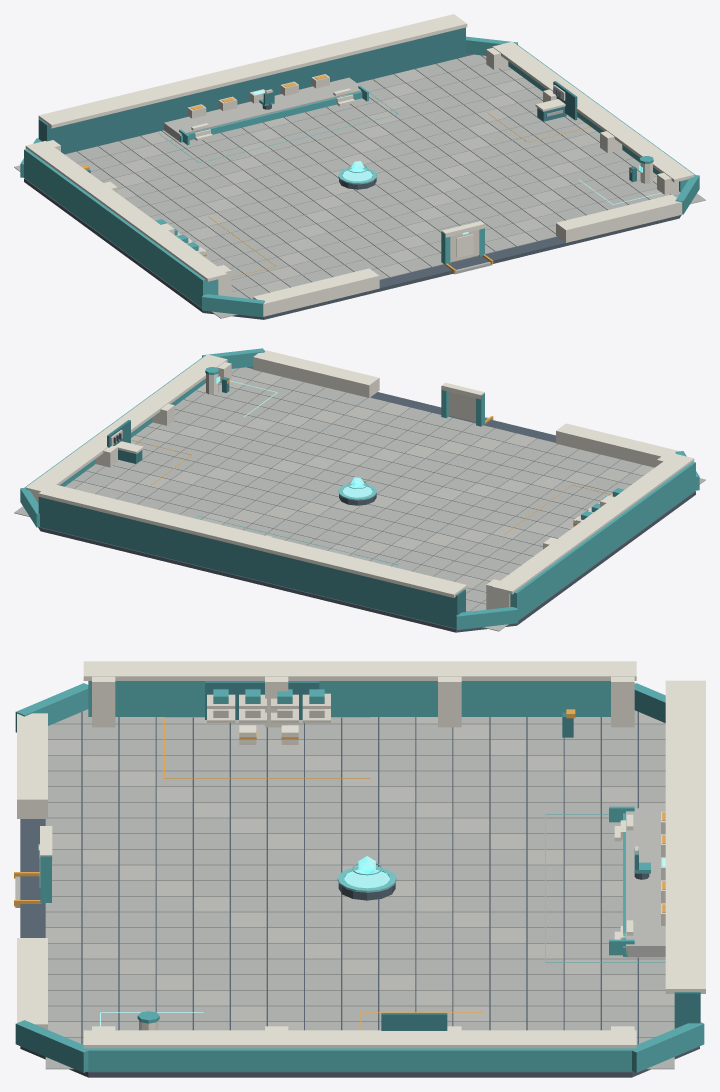
The model's file is ship_hub.glb.
The picture shows the model from 3 angles, top to bottom: view 1: azimuth 30°, elevation 25°; view 2: azimuth 150°, elevation 25°; view 3: azimuth 270°, elevation 25°; orthographic projection. The views are drawn at different scales.
Visible parts, largest first — view 1: Hull/forward_wall, Hull/forward_top_beam, Hull/left_wall, Deck/structural_floor, Hull/upper_rail_-6.63, Hull/upper_rail_6.63, Bridge/platform, Hull/near_right_parapet, Hull/near_left_parapet, Bridge/platform_front_lip, Hull/corner_-1_1, Hull/right_cutaway_wall (+1 smaller); view 2: Hull/forward_wall, Hull/forward_top_beam, Hull/left_wall, Deck/structural_floor, Hull/upper_rail_-6.63, Hull/upper_rail_6.63, Hull/near_right_parapet, Hull/near_left_parapet, Hull/corner_-1_-1, Hull/right_cutaway_wall, Airlock/door, Hull/corner_1_1 (+2 smaller); view 3: Deck/structural_floor, Hull/right_cutaway_wall, Hull/forward_top_beam, Hull/left_wall, Hull/upper_rail_-6.63, Hull/upper_rail_6.63, Bridge/platform, Hull/near_left_parapet, Hull/near_right_parapet, Hull/corner_1_1, Hull/corner_1_-1, Hull/corner_-1_1 (+8 smaller).
Part boxes in pixels (x1,y1,x2,y2): Hull/forward_wall: [38, 27, 465, 154]; Hull/forward_top_beam: [38, 14, 467, 128]; Hull/left_wall: [24, 149, 218, 307]; Deck/structural_floor: [24, 53, 681, 319]; Hull/upper_rail_-6.63: [25, 141, 227, 281]; Hull/upper_rail_6.63: [492, 41, 694, 182]; Bridge/platform: [164, 77, 361, 141]; Hull/near_right_parapet: [556, 194, 682, 242]; Hull/near_left_parapet: [253, 268, 379, 316]; Bridge/platform_front_lip: [180, 91, 362, 142]; Hull/corner_-1_1: [202, 294, 264, 317]; Hull/right_cutaway_wall: [508, 44, 695, 192]; Hull/forward_wall: [38, 497, 465, 628]; Hull/forward_top_beam: [38, 483, 467, 597]; Hull/left_wall: [510, 462, 695, 620]; Deck/structural_floor: [38, 366, 695, 632]; Hull/upper_rail_-6.63: [492, 453, 694, 594]; Hull/upper_rail_6.63: [25, 354, 227, 493]; Hull/near_right_parapet: [253, 349, 379, 397]; Hull/near_left_parapet: [556, 423, 679, 467]; Hull/corner_-1_-1: [456, 607, 517, 629]; Hull/right_cutaway_wall: [25, 357, 205, 487]; Airlock/door: [448, 391, 475, 421]; Hull/corner_1_1: [202, 348, 264, 368]; Deck/structural_floor: [20, 711, 699, 1077]; Hull/right_cutaway_wall: [88, 1048, 631, 1071]; Hull/forward_top_beam: [665, 680, 705, 993]; Hull/left_wall: [88, 681, 610, 716]; Hull/upper_rail_-6.63: [83, 661, 636, 680]; Hull/upper_rail_6.63: [83, 1030, 636, 1048]; Bridge/platform: [626, 808, 665, 958]; Hull/near_left_parapet: [17, 713, 47, 818]; Hull/near_right_parapet: [17, 938, 47, 1029]; Hull/corner_1_1: [15, 1020, 91, 1072]; Hull/corner_1_-1: [629, 1022, 704, 1072]; Hull/corner_-1_1: [15, 683, 88, 732].
Bounding box in the file's own units: 42.42 × 3.21 × 33.58.
